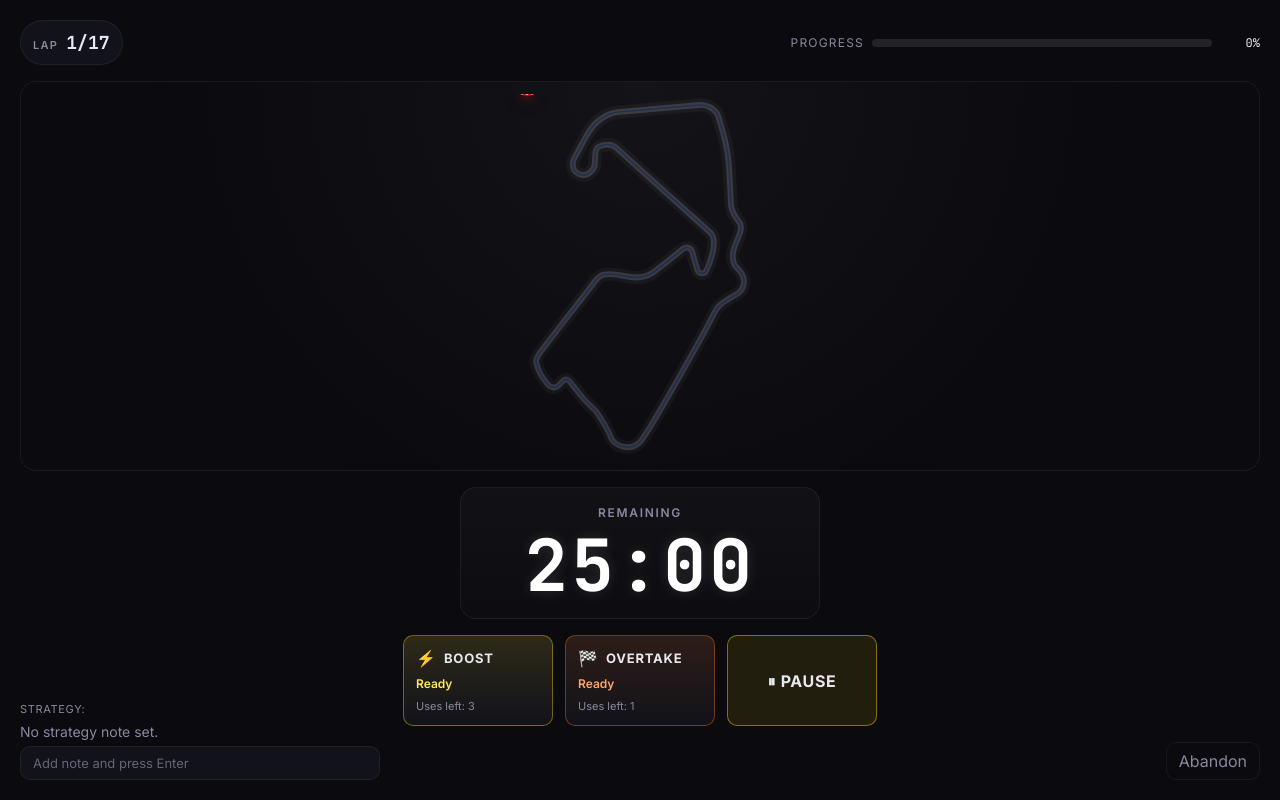
Test case: RaceScreen running session › pauses the session and applies the pause penalty
Click the button "⏸ Pause" at (802, 680), box [727,635,877,726]
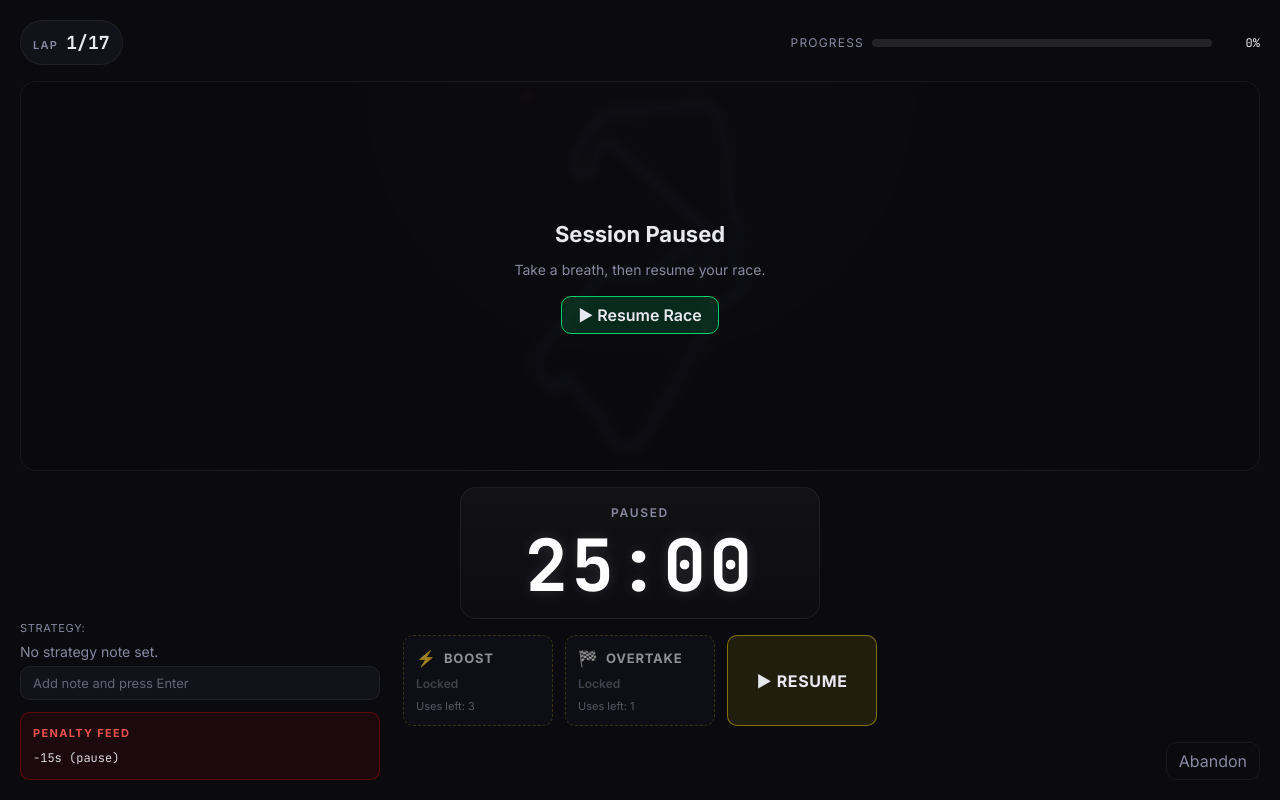
Expected: the text "Session Paused" is shown, [555,218,725,251]
